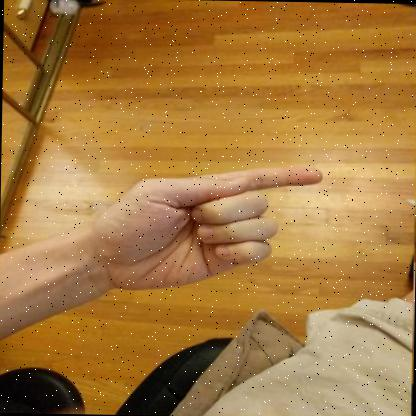G: (86, 166, 322, 293)
